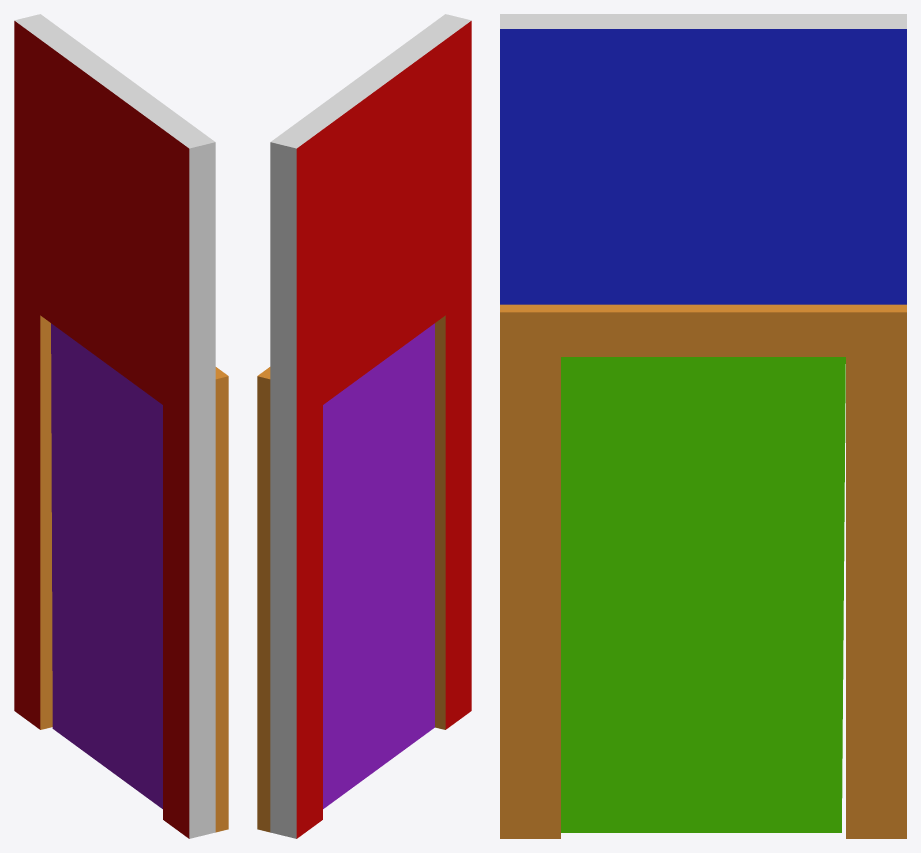
File: Mesh_wall_door_Final.fbx
The picture shows the model from 3 angles, left to right: view 1: azimuth 30°, elevation 25°; view 2: azimuth 150°, elevation 25°; view 3: azimuth 270°, elevation 25°; orthographic projection. The views are drawn at different scales.
Visible parts, largest first — view 1: mesh_wall_door, mesh_door; view 2: mesh_wall_door, mesh_door; view 3: mesh_wall_door, mesh_door.
Boxes of the visible parts, left/top/right/bottom form: mesh_wall_door: left=14, top=14, right=228, bottom=838; mesh_door: left=51, top=323, right=162, bottom=808; mesh_wall_door: left=257, top=14, right=471, bottom=838; mesh_door: left=323, top=323, right=434, bottom=808; mesh_wall_door: left=500, top=14, right=906, bottom=838; mesh_door: left=561, top=357, right=845, bottom=832.
Bounding box in the file's own units: 60.01 × 1000 × 460.
